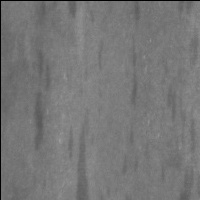inclusion: (121, 3, 149, 108), (71, 104, 96, 200), (28, 90, 50, 155), (163, 74, 187, 129), (34, 44, 55, 97), (122, 143, 144, 178), (93, 30, 109, 76), (125, 118, 139, 150)
